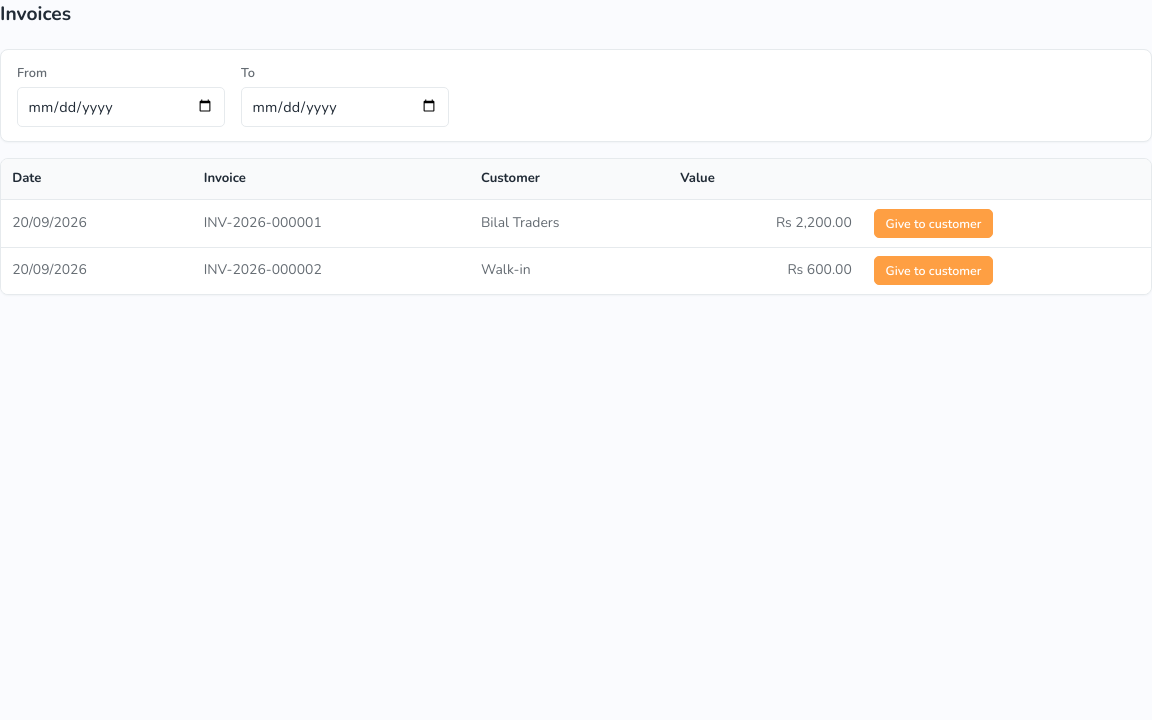
Test: InvoicesPage › names the sale being handed over, so the wrong row cannot be shared by accident
The image size is (1152, 720).
Click the button "Give to customer" in the row of "INV-2026-000002" at point(933, 271), box [874,256,993,285]
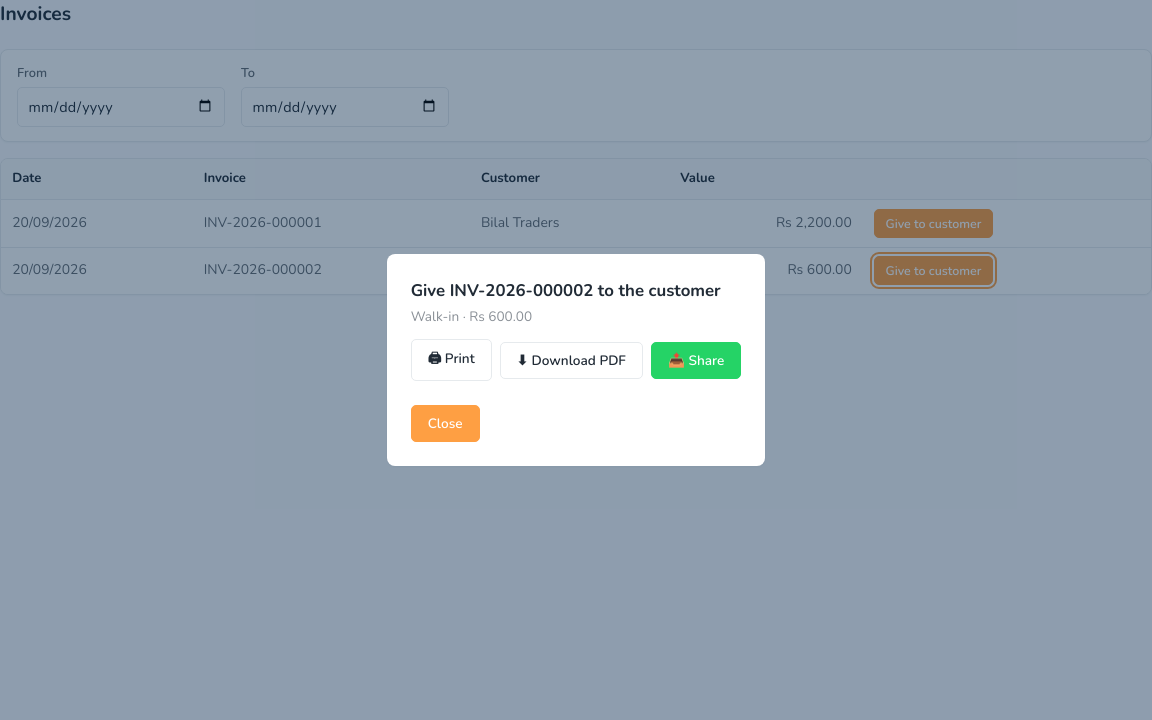
Expected: the dialog shows "INV-2026-000002", [450,279,593,302]
